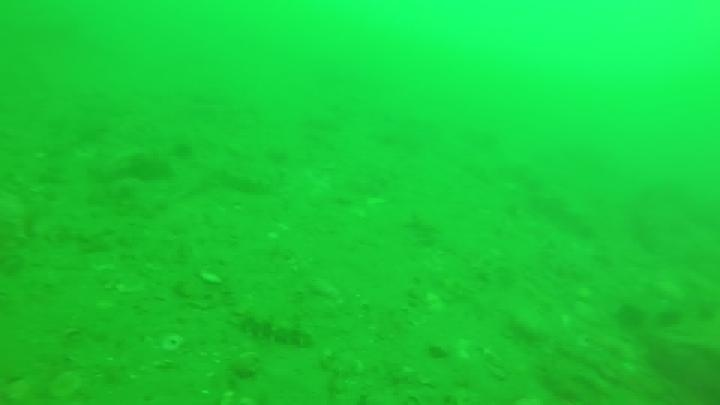echinus: (613, 301, 647, 332), (170, 139, 196, 161), (660, 310, 685, 330)
holothurian: (230, 308, 316, 349)
scallop: (47, 369, 86, 402)
